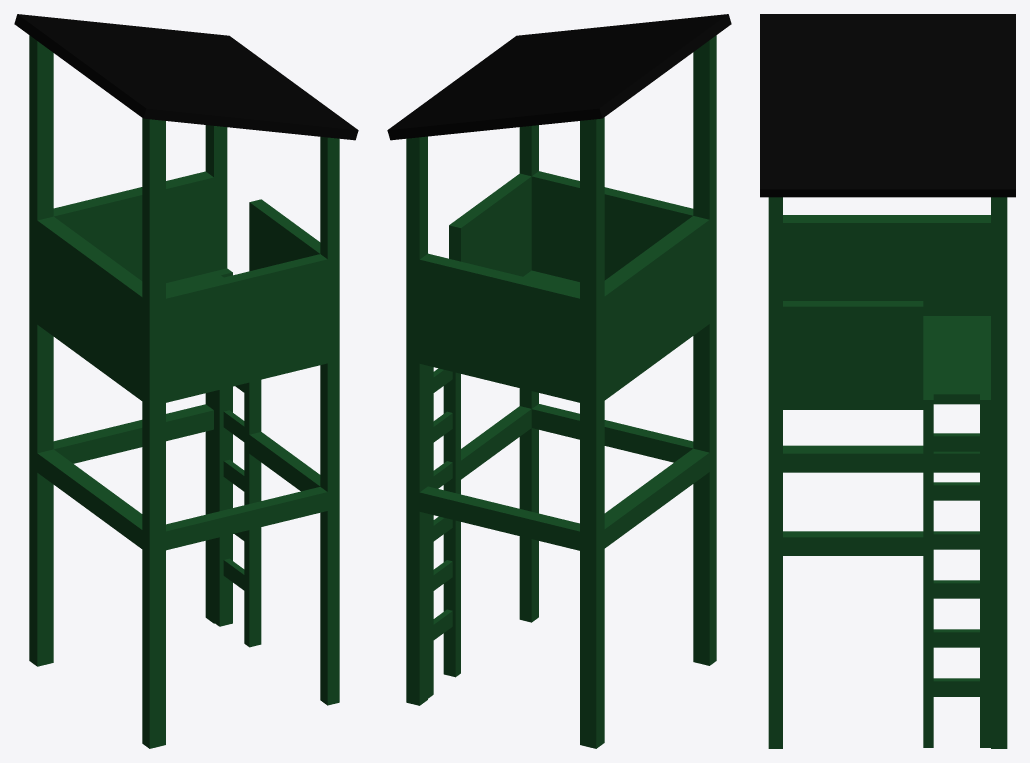
Rendered from watchtower.fbx.
The picture shows the model from 3 angles, left to right: view 1: azimuth 30°, elevation 25°; view 2: azimuth 150°, elevation 25°; view 3: azimuth 270°, elevation 25°; orthographic projection.
Parts seen in each view (by area): view 1: Cube; view 2: Cube; view 3: Cube.
Part boxes in pixels (box(x1,y1,x2,y2)): Cube: box(14, 14, 358, 748); Cube: box(387, 14, 731, 748); Cube: box(760, 14, 1015, 748).
Size of the model in its own units: 319 by 913 by 331.
